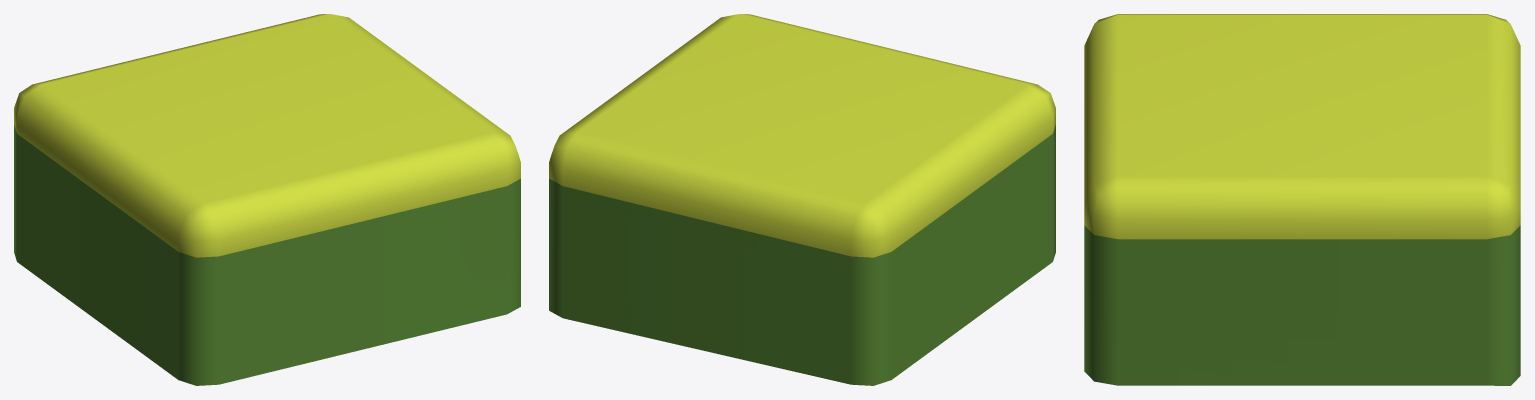
3 views of the same model, side by side, from view 1: azimuth 30°, elevation 25°; view 2: azimuth 150°, elevation 25°; view 3: azimuth 270°, elevation 25° (orthographic). The views are drawn at different scales.
Parts seen in each view (by area): view 1: base_02; view 2: base_02; view 3: base_02.
Boxes of the visible parts, <box> form: base_02: <box>14,14,520,385</box>; base_02: <box>549,14,1055,385</box>; base_02: <box>1084,14,1520,385</box>.
Size of the model in its own units: 788 by 389 by 768.
